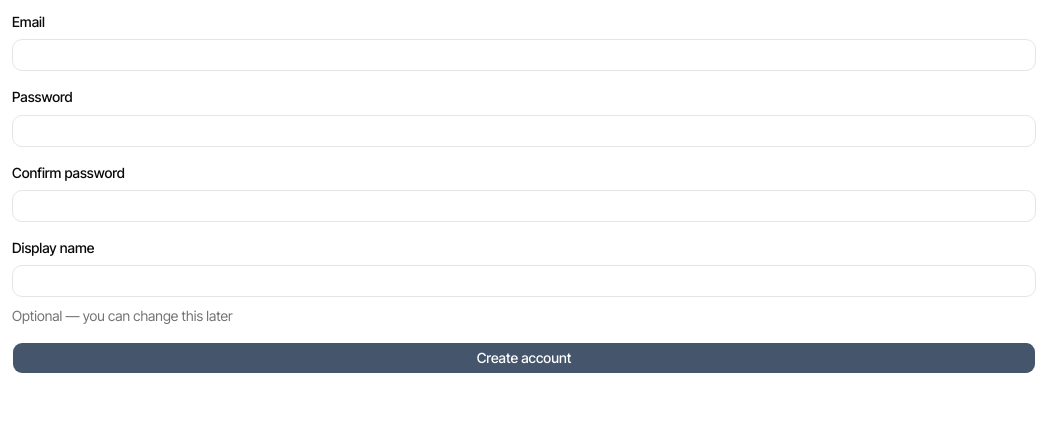
Test case: RegistrationForm › shows validation errors on empty submit
The image size is (1048, 446).
Click the button "Create account".
click(524, 358)  # box [12,342,1036,374]
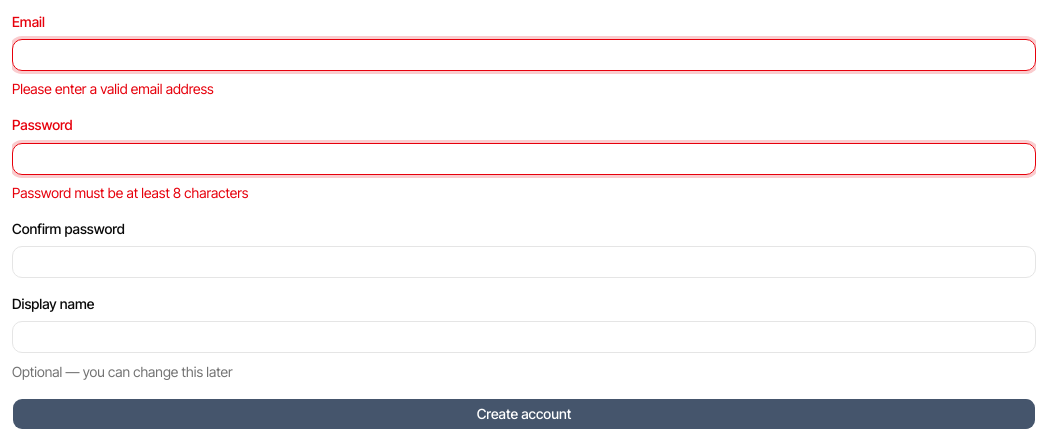
expect the text "Please enter a valid email address" is shown: met, box [12,80,214,97]
expect the text "Password must be at least 8 characters" is shown: met, box [12,184,248,200]
